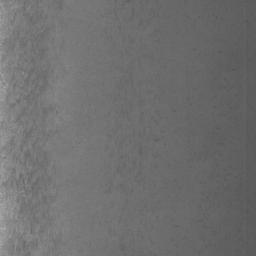Silk spot: (0, 0, 65, 256), (104, 111, 168, 203), (104, 0, 142, 40), (111, 71, 133, 121), (216, 164, 248, 188), (120, 229, 144, 256)
